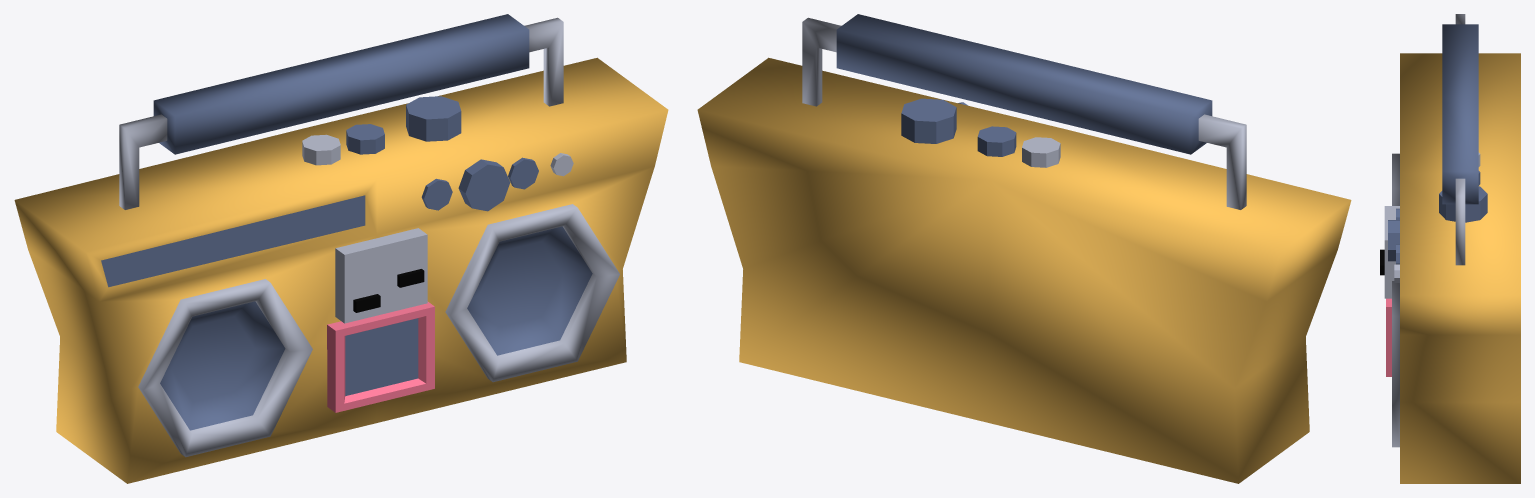
File: BoomBox.fbx
The picture shows the model from 3 angles, left to right: view 1: azimuth 30°, elevation 25°; view 2: azimuth 150°, elevation 25°; view 3: azimuth 270°, elevation 25°; orthographic projection. The views are drawn at different scales.
Parts seen in each view (by area): view 1: Cube.001; view 2: Cube.001; view 3: Cube.001.
Boxes of the visible parts, box(x1,y1,x2,y2) form: Cube.001: box(14, 14, 668, 483); Cube.001: box(697, 14, 1351, 483); Cube.001: box(1380, 14, 1520, 483).
Bounding box in the file's own units: 631 × 344 × 155.
